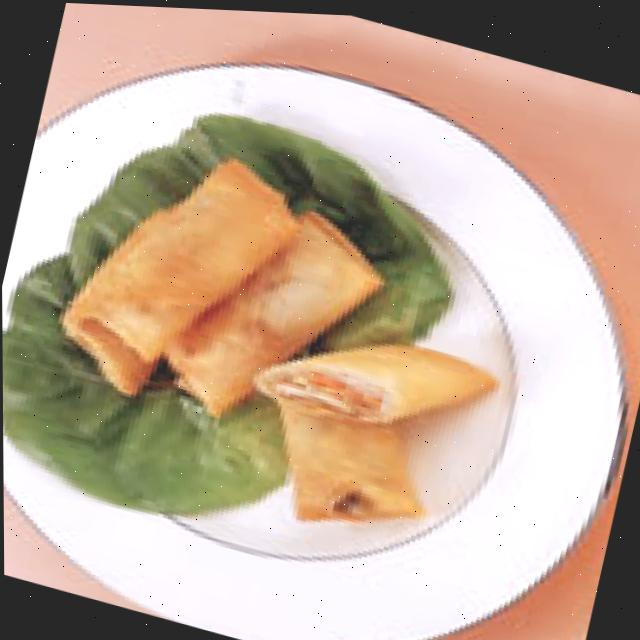鸡蛋料理: (1, 101, 544, 587)
